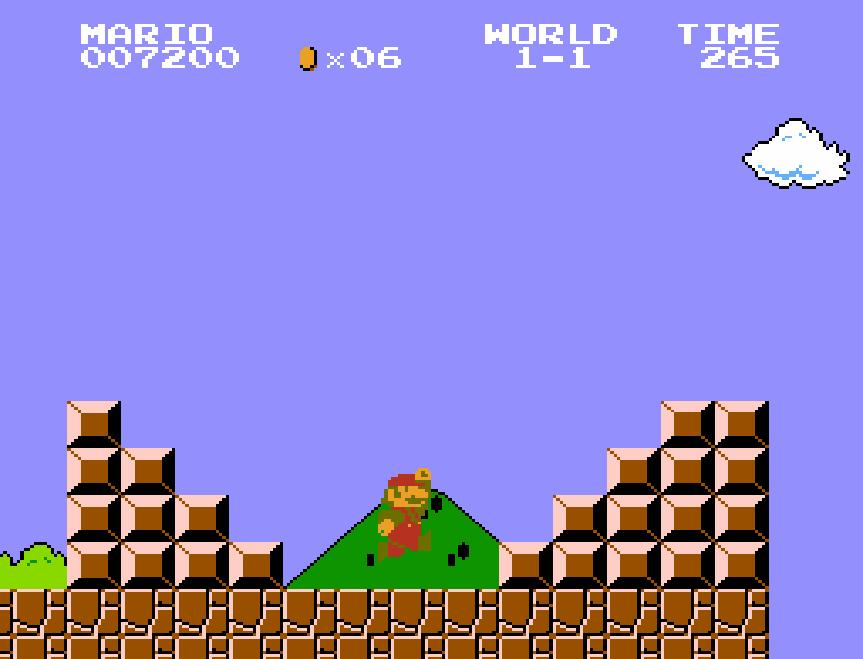big_mario: (376, 466, 434, 564)
